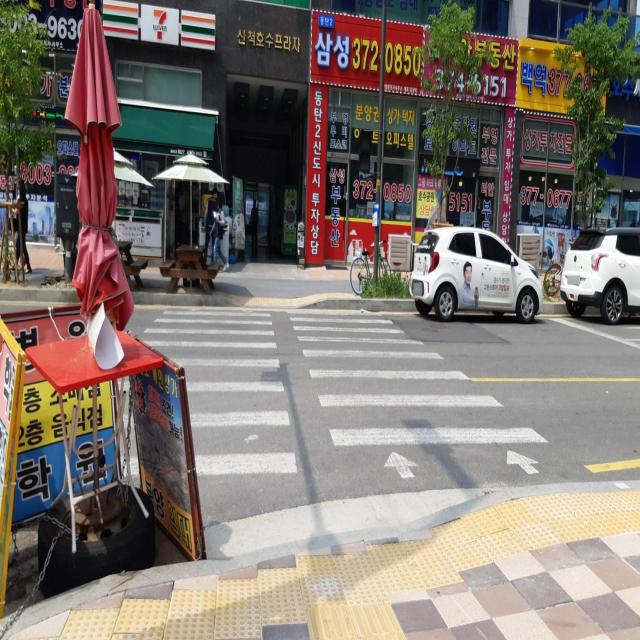횡단보도: (140, 307, 551, 481)
